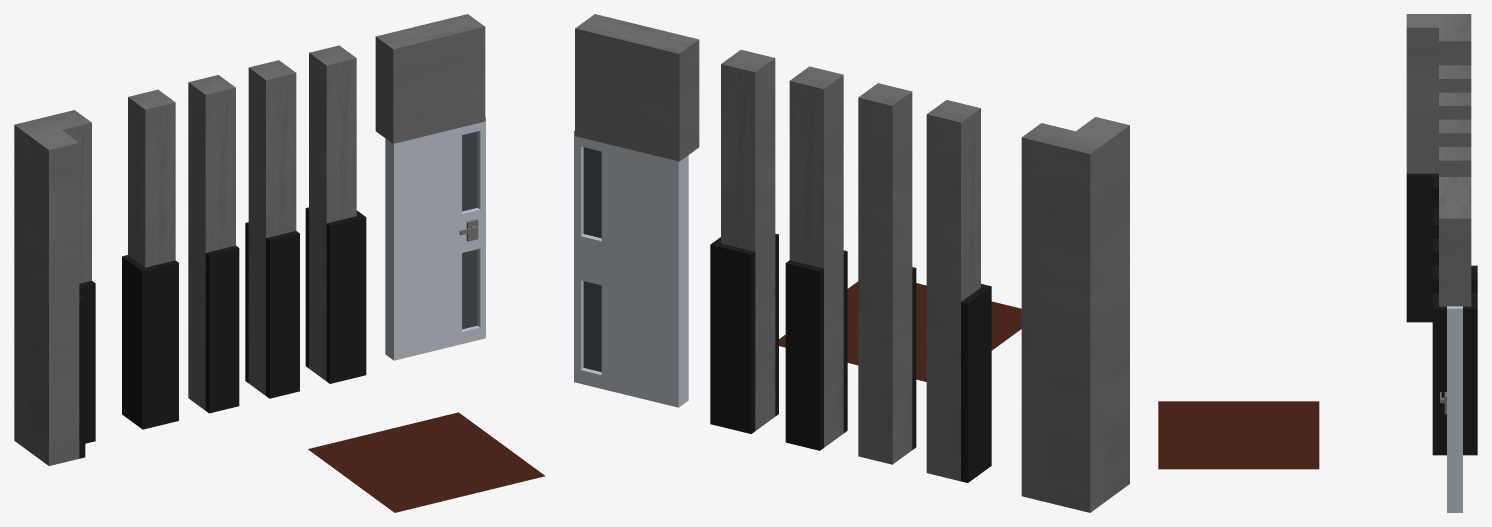
The model's file is cenarioSetorTI.fbx.
The picture shows the model from 3 angles, left to right: view 1: azimuth 30°, elevation 25°; view 2: azimuth 150°, elevation 25°; view 3: azimuth 270°, elevation 25°; orthographic projection. The views are drawn at different scales.
Parts seen in each view (by area): view 1: ParedeTI_junta, PortaTI, ParedeTi_borda, ParedeTI_quina, ParedeTI_bilateral, ParedeTI_unilateral, Chão, ParedeTI_cima_porta; view 2: ParedeTI_junta, PortaTI, ParedeTi_borda, ParedeTI_quina, ParedeTI_bilateral, ParedeTI_unilateral, ParedeTI_cima_porta, Chão; view 3: ParedeTI_junta, Chão, ParedeTi_borda, ParedeTI_cima_porta, PortaTI, ParedeTI_bilateral, ParedeTI_quina, ParedeTI_unilateral.
Boxes of the visible parts, box(x1,y1,x2,y2) form: ParedeTI_junta: box(14, 110, 95, 465); PortaTI: box(385, 117, 485, 360); ParedeTi_borda: box(305, 45, 366, 383); ParedeTI_quina: box(122, 89, 178, 429); ParedeTI_bilateral: box(245, 60, 299, 398); ParedeTI_unilateral: box(188, 75, 239, 413); Chão: box(308, 412, 545, 512); ParedeTI_cima_porta: box(375, 14, 485, 143); ParedeTI_junta: box(1021, 117, 1129, 512); PortaTI: box(574, 130, 688, 407); ParedeTi_borda: box(710, 49, 778, 433); ParedeTI_quina: box(926, 100, 991, 482); ParedeTI_bilateral: box(785, 66, 847, 450); ParedeTI_unilateral: box(858, 83, 916, 464); ParedeTI_cima_porta: box(575, 14, 699, 161); Chão: box(779, 281, 1021, 381); ParedeTI_junta: box(1406, 14, 1471, 322); Chão: box(1158, 401, 1319, 469); ParedeTi_borda: box(1432, 147, 1477, 455); ParedeTI_cima_porta: box(1439, 177, 1471, 306); PortaTI: box(1440, 306, 1462, 512); ParedeTI_bilateral: box(1432, 119, 1477, 292); ParedeTI_quina: box(1432, 65, 1471, 238); ParedeTI_unilateral: box(1432, 92, 1471, 265).
Size of the model in its own units: 1520 by 1000 by 991.
